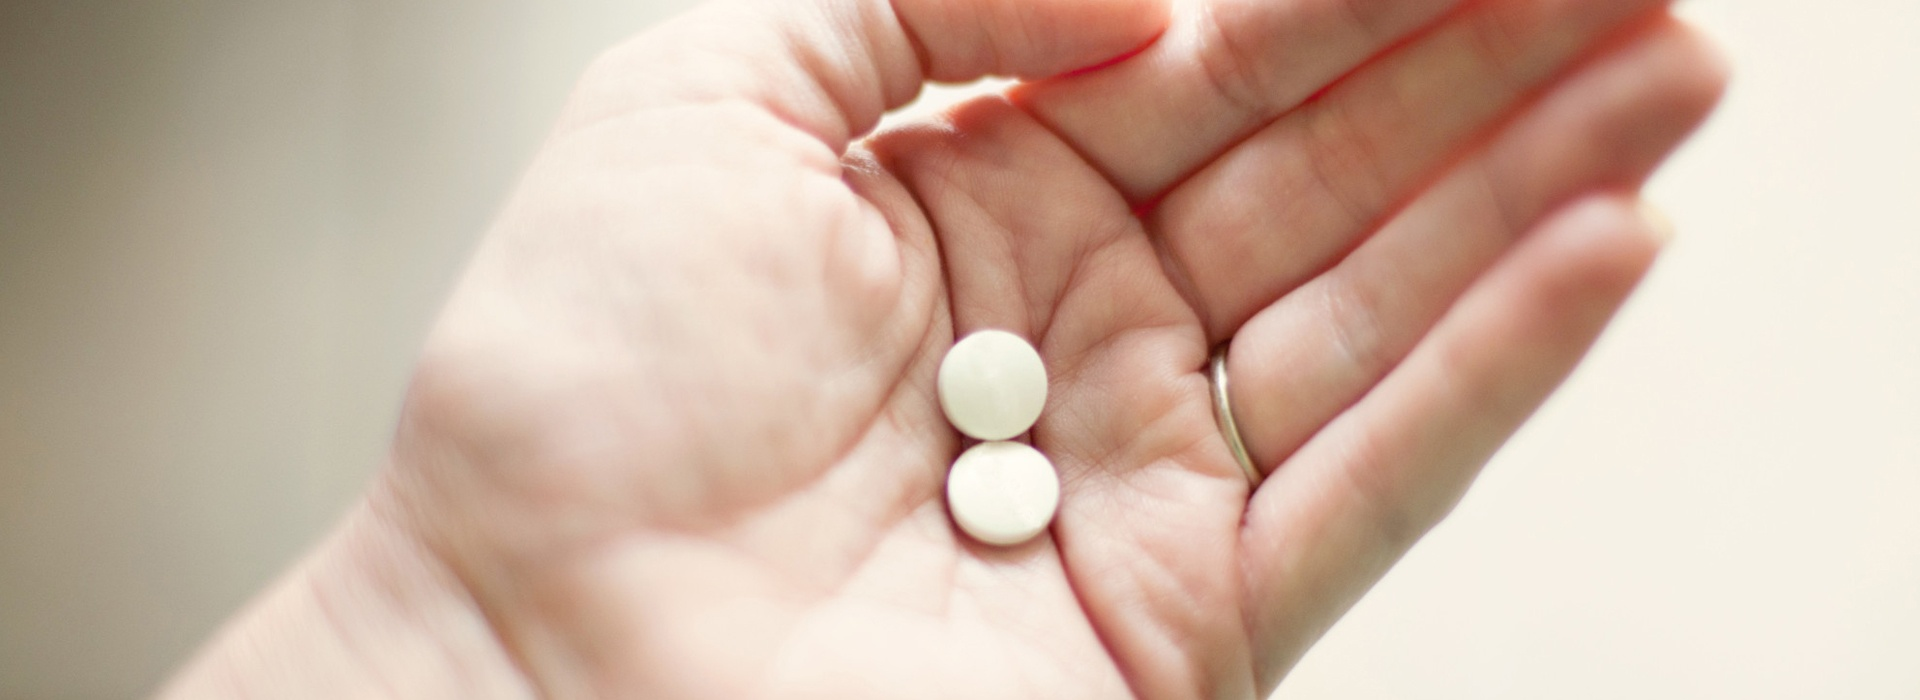pills: (938, 434, 1073, 560), (938, 329, 1053, 447)
